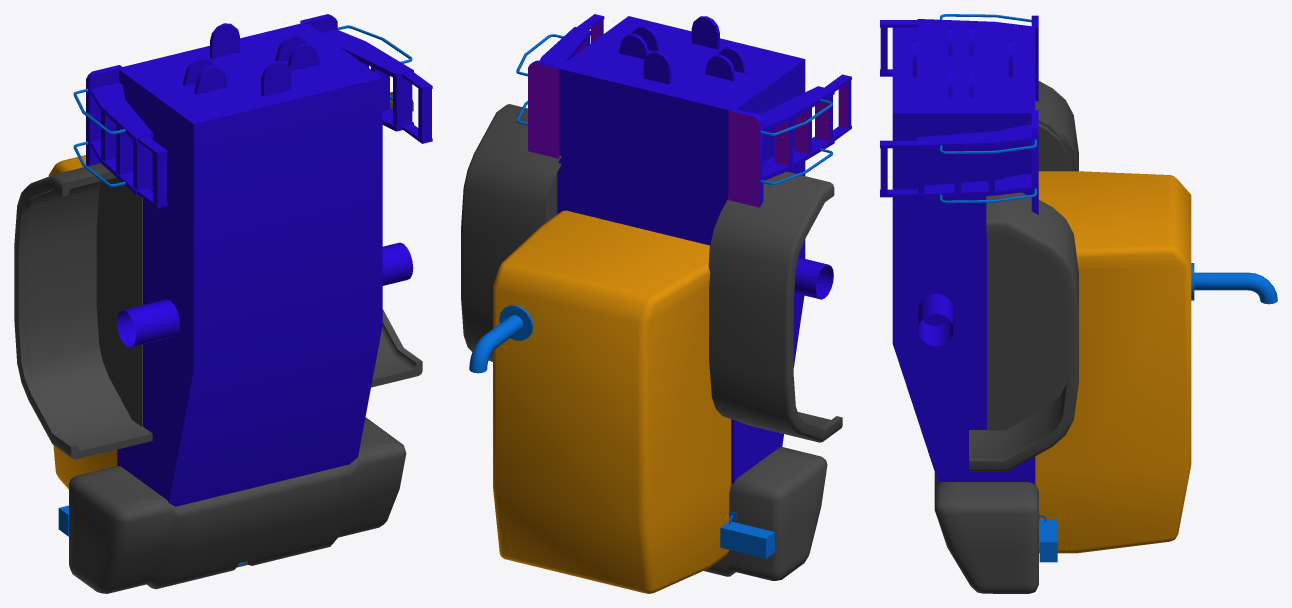
File: WheelLoader_01.fbx
3 views of the same model, side by side, from view 1: azimuth 30°, elevation 25°; view 2: azimuth 150°, elevation 25°; view 3: azimuth 270°, elevation 25° (orthographic). The views are drawn at different scales.
Visible parts, largest first — view 1: WheelLoader_Main_01; view 2: WheelLoader_Main_01; view 3: WheelLoader_Main_01.
Boxes of the visible parts, x1,y1,x2,y2 form: WheelLoader_Main_01: (14, 14, 432, 593); WheelLoader_Main_01: (461, 14, 851, 593); WheelLoader_Main_01: (880, 14, 1277, 593).
Size of the model in its own units: 2.53 by 3.74 by 2.66.
